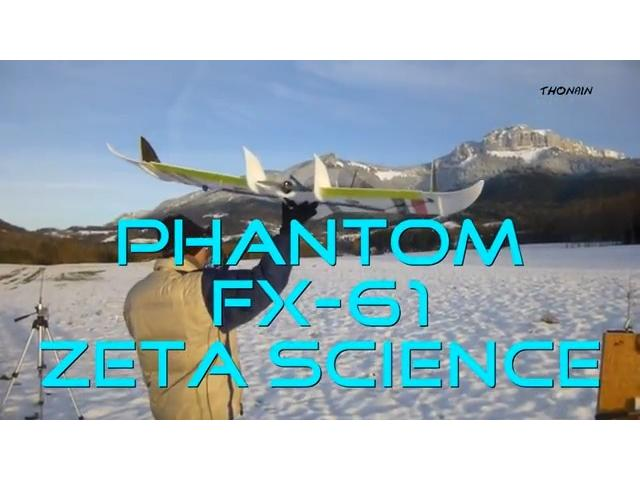Anti-Drone: (90, 124, 508, 256)
